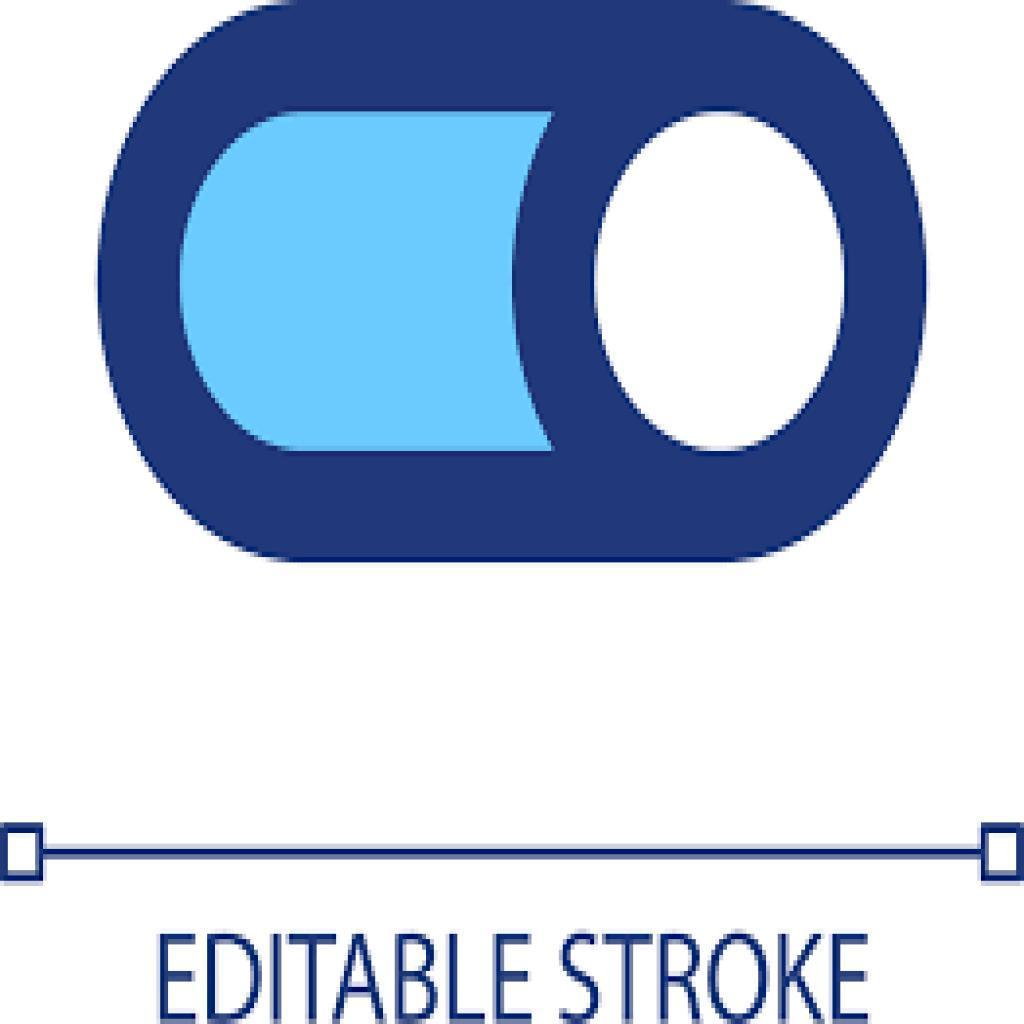switch: (97, 5, 938, 567)
